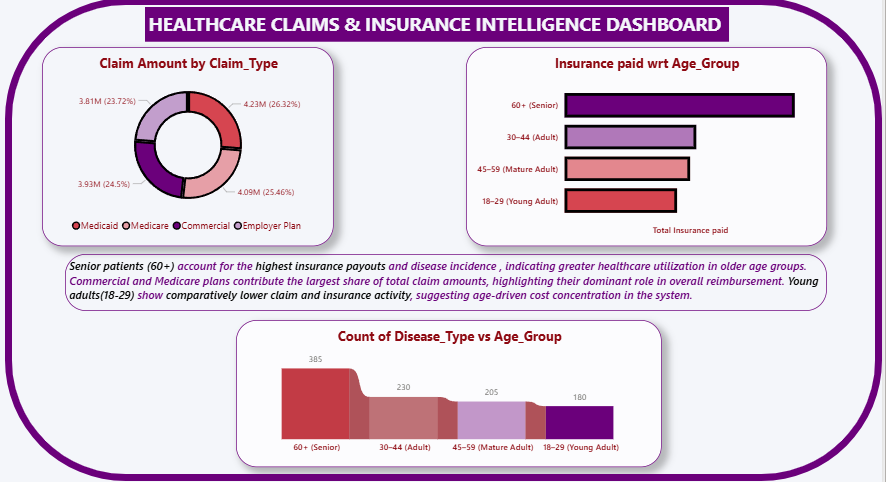

What the dashboard file says about the page in this screenshot:
{"tool":"powerbi","page":{"name":"Claims & Payer Intelligence","canvas":[1280,720],"ordinal":1},"visuals":[{"type":"donutChart","title":" Claim Amount by Claim_Type","fields":{"Category":["healthcare.Claim_Type"],"Y":["healthcare.Total claim ammount"]},"box":[70.6,82.1,420.5,286.6],"z":0},{"type":"barChart","title":" Insurance paid wrt Age_Group","fields":{"Category":["healthcare.Age_Group"],"Y":["healthcare.Total Insurance paid"]},"box":[681.1,82.1,519.8,286.6],"z":1000},{"type":"columnChart","title":"Count of Disease_Type vs Age_Group","fields":{"Category":["healthcare.Age_Group"],"Y":["CountNonNull(healthcare.Disease_Type)"]},"box":[349.9,475.2,613.4,211.7],"z":2000},{"type":"textbox","box":[103.7,380.2,1097.3,82.1],"z":3000},{"type":"textbox","box":[218.9,24.5,841,50.4],"z":4000},{"type":"shape","box":[17.3,11.5,1262.9,695.5],"z":4001}]}

Visuals, with their boxes in screenshot pixels (x1, y1, x2, y2):
" Claim Amount by Claim_Type" donutChart: bbox=[44, 47, 332, 244]
" Insurance paid wrt Age_Group" barChart: bbox=[462, 47, 819, 244]
"Count of Disease_Type vs Age_Group" columnChart: bbox=[235, 317, 656, 462]
textbox: bbox=[66, 251, 819, 308]
textbox: bbox=[145, 8, 722, 42]
shape: bbox=[7, 0, 873, 475]
